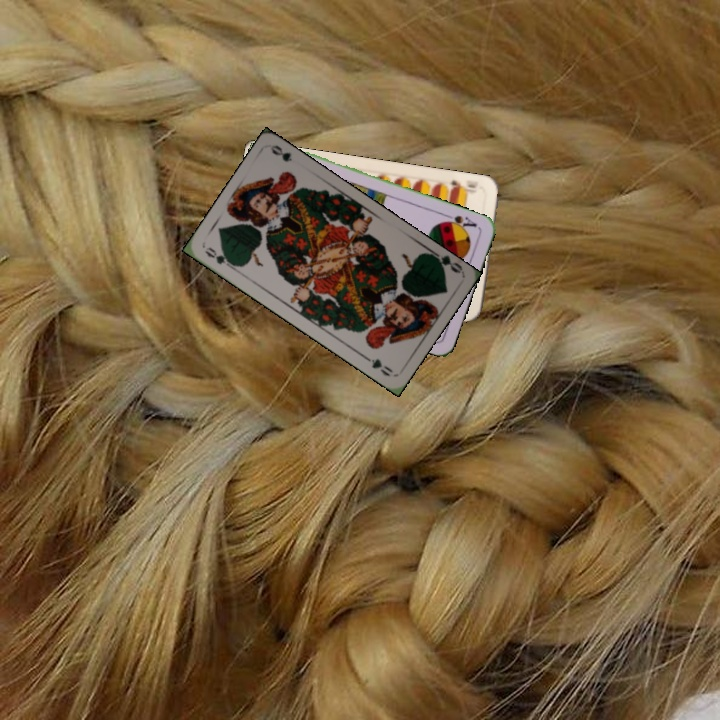E10: (446, 176, 479, 196)
GO: (426, 246, 464, 276), (200, 243, 239, 272)
SA: (439, 210, 479, 233)
